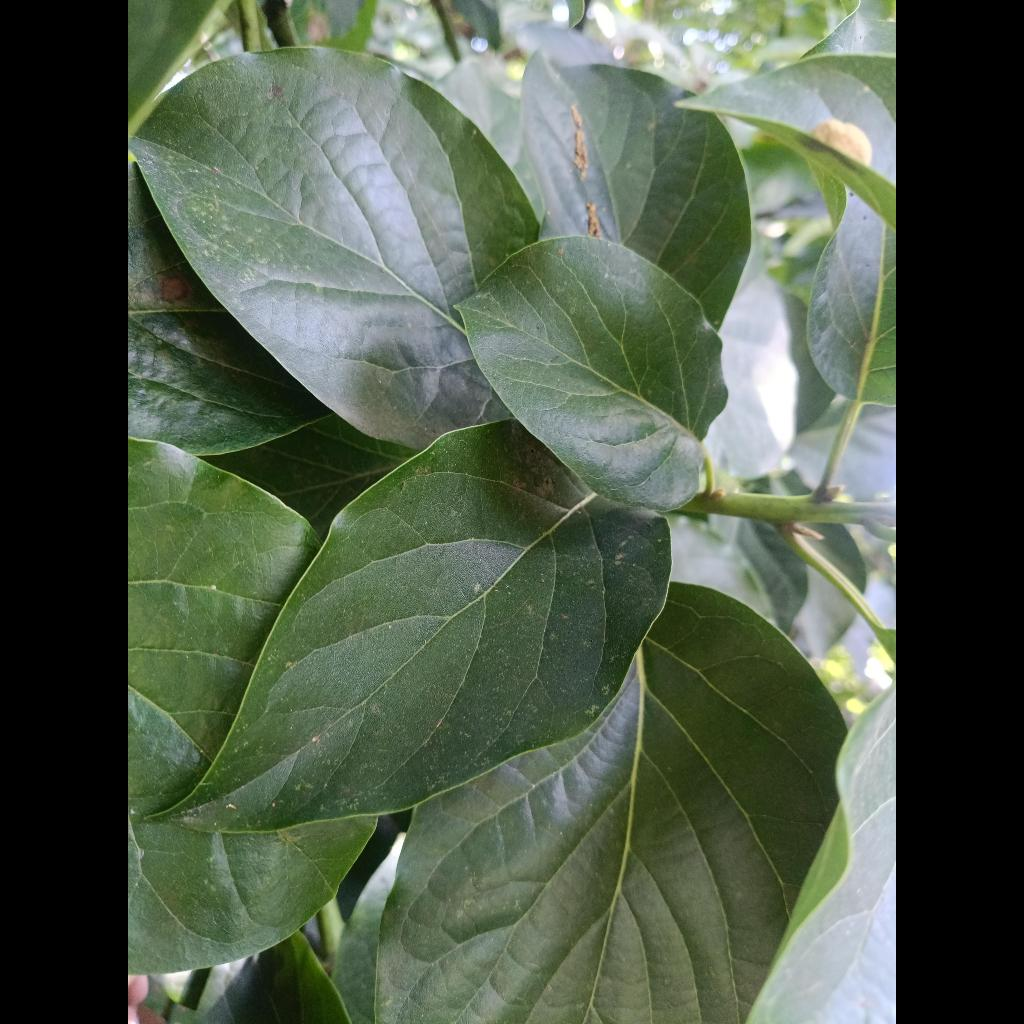hoja_sana: (157, 422, 671, 837), (457, 236, 726, 511)
